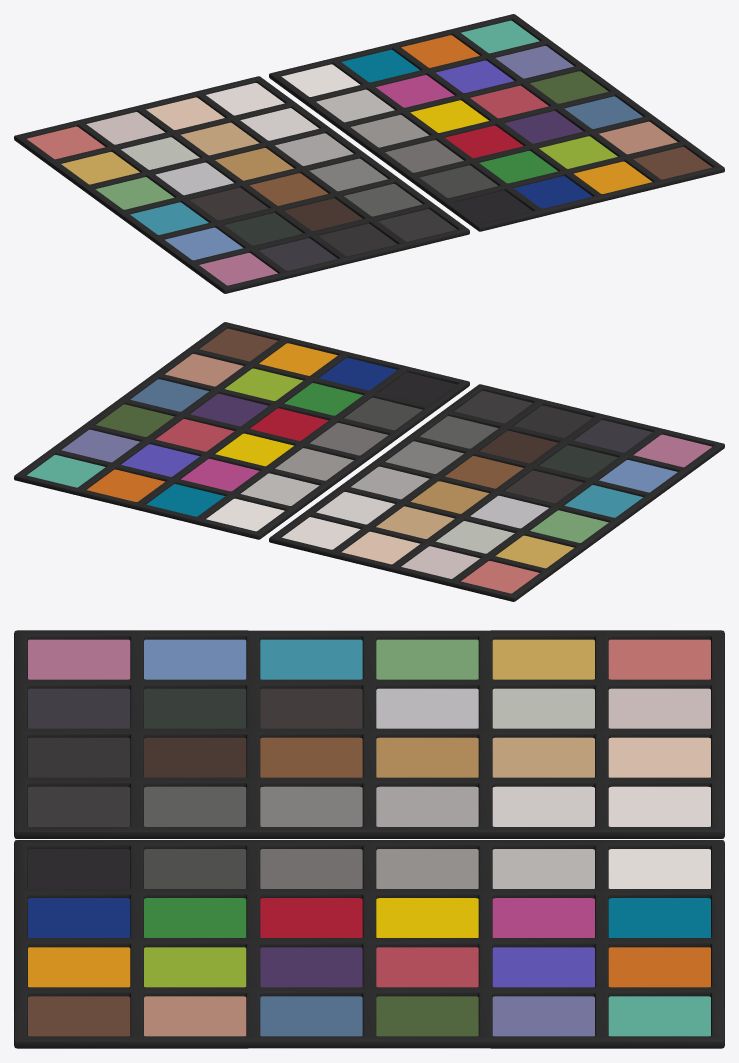
The model's file is palette.glb.
The picture shows the model from 3 angles, top to bottom: view 1: azimuth 30°, elevation 25°; view 2: azimuth 150°, elevation 25°; view 3: azimuth 270°, elevation 25°; orthographic projection. The views are drawn at different scales.
Visible parts, largest first — view 1: color_0, color_1, palette_0, palette_1; view 2: color_0, color_1, palette_0, palette_1; view 3: color_0, color_1, palette_0, palette_1.
Boxes of the visible parts, <box> form: color_0: <box>27,83,456,285</box>; color_1: <box>281,20,711,223</box>; palette_0: <box>14,76,469,293</box>; palette_1: <box>269,14,724,231</box>; color_0: <box>282,391,711,593</box>; color_1: <box>27,328,457,531</box>; palette_0: <box>269,384,724,601</box>; palette_1: <box>14,322,469,539</box>; color_0: <box>28,639,710,826</box>; color_1: <box>28,849,710,1036</box>; palette_0: <box>14,630,724,838</box>; palette_1: <box>14,840,724,1048</box>.
Size of the model in its own units: 0.629 by 0.006 by 0.459.
1 material, 1 textured.
